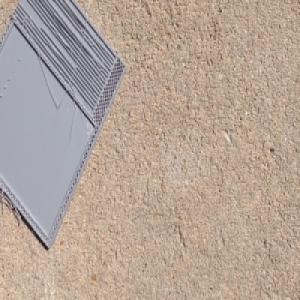PlasticPart: (0, 0, 127, 252)
